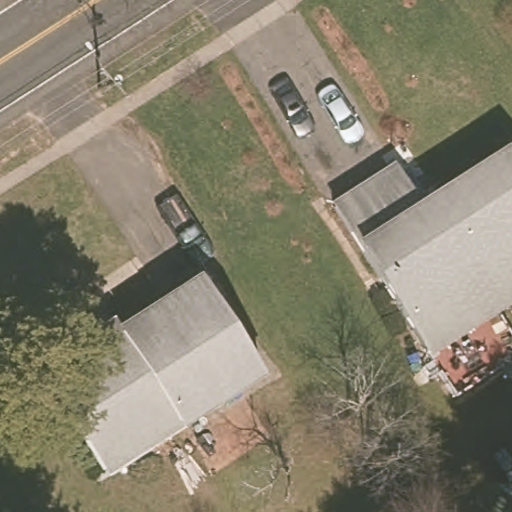DT: (99, 68, 127, 94)
